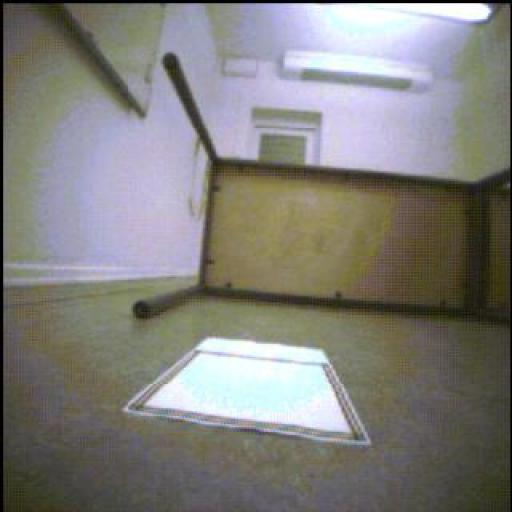Pad: (172, 333, 357, 445)
